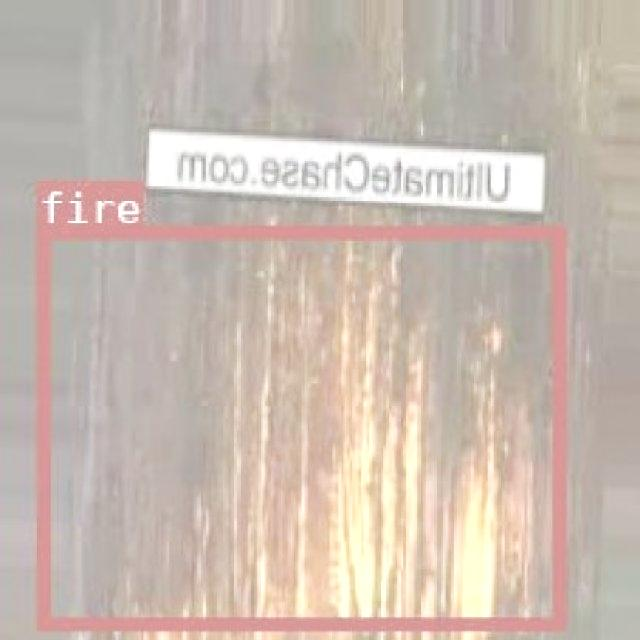fire: (34, 224, 563, 628)
